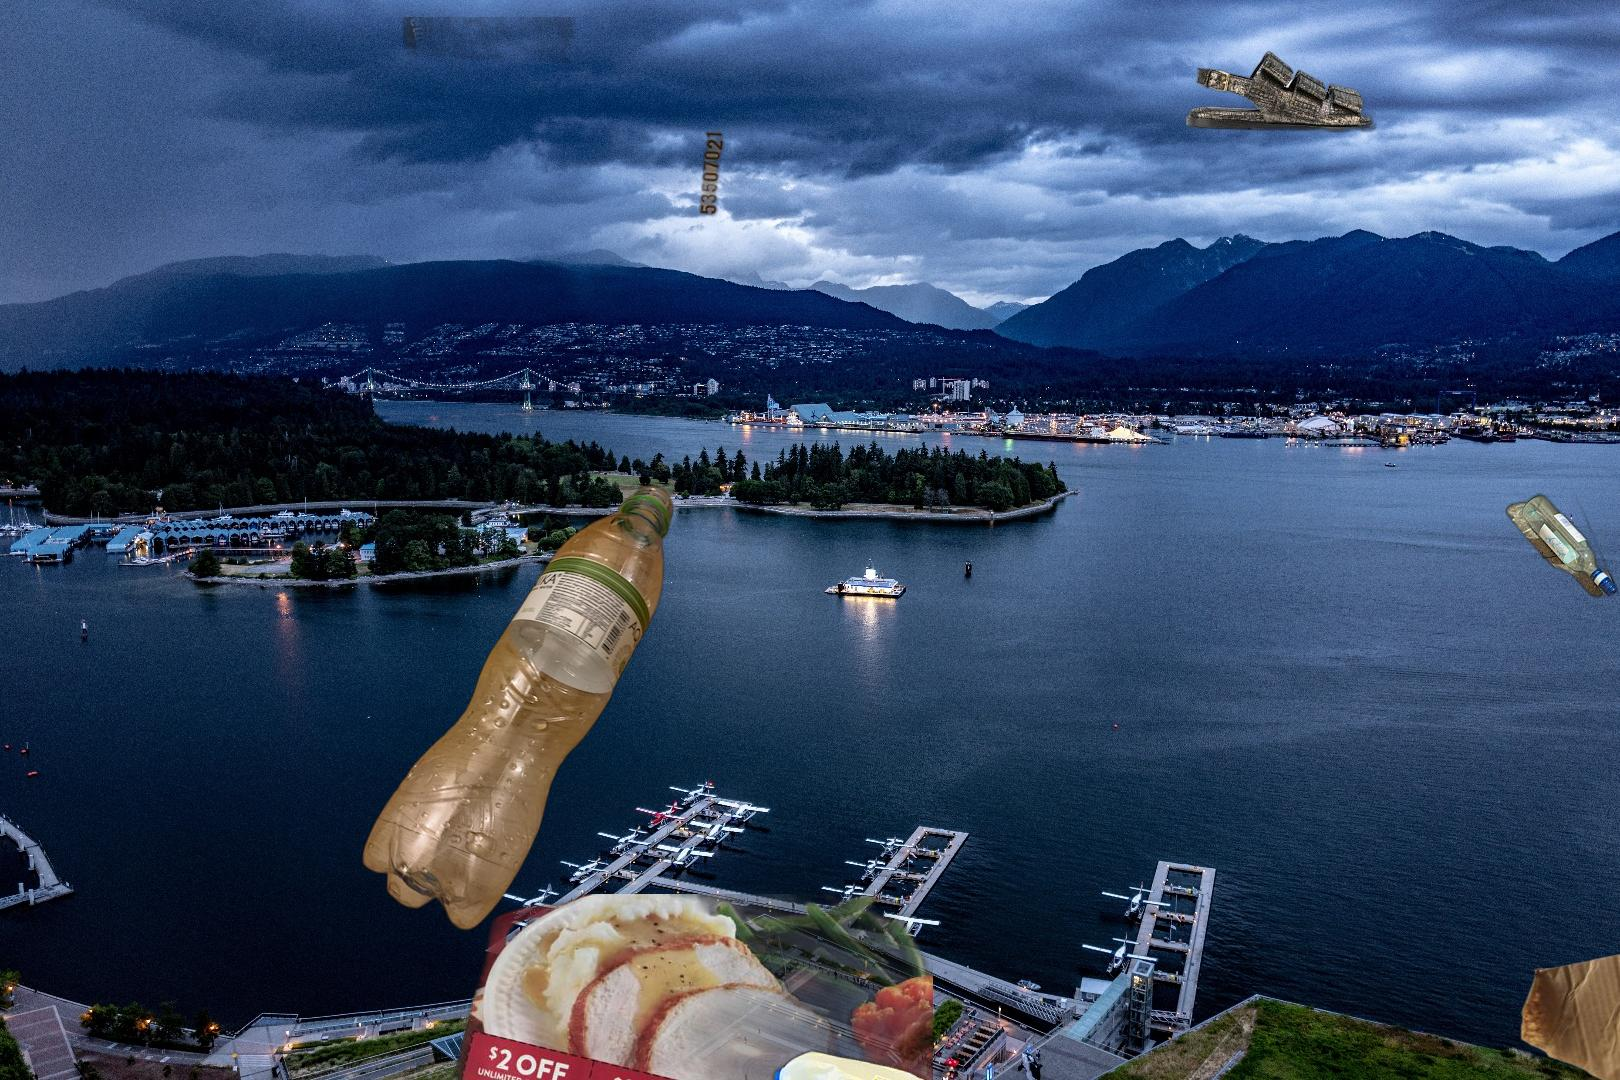glass: (1501, 474, 1620, 639)
paper: (421, 894, 933, 1080)
plastic-bottles: (358, 481, 677, 934), (700, 1044, 1129, 1080)
shoes: (1184, 48, 1377, 134)
trashbox-cardboard: (399, 17, 804, 401), (1516, 920, 1620, 1080)
